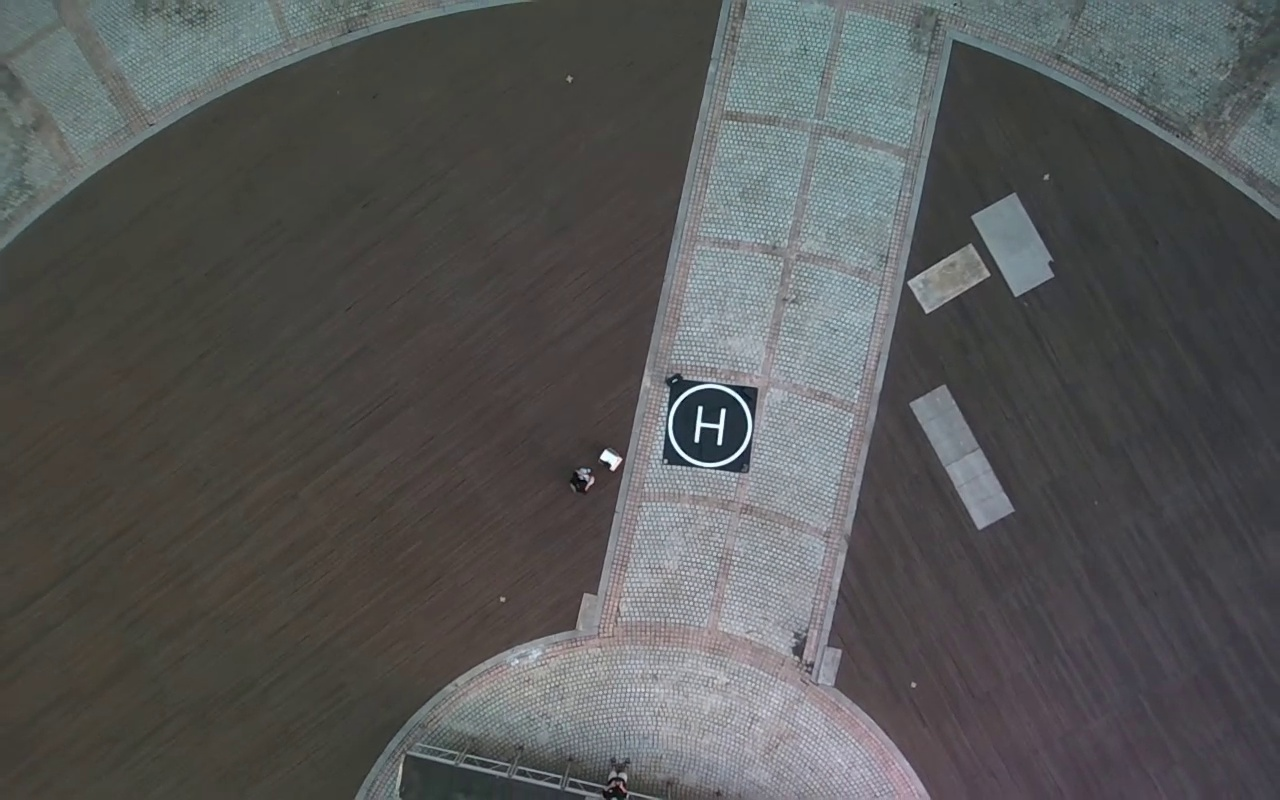H: (693, 407, 726, 447)
heliport: (668, 383, 753, 468)
